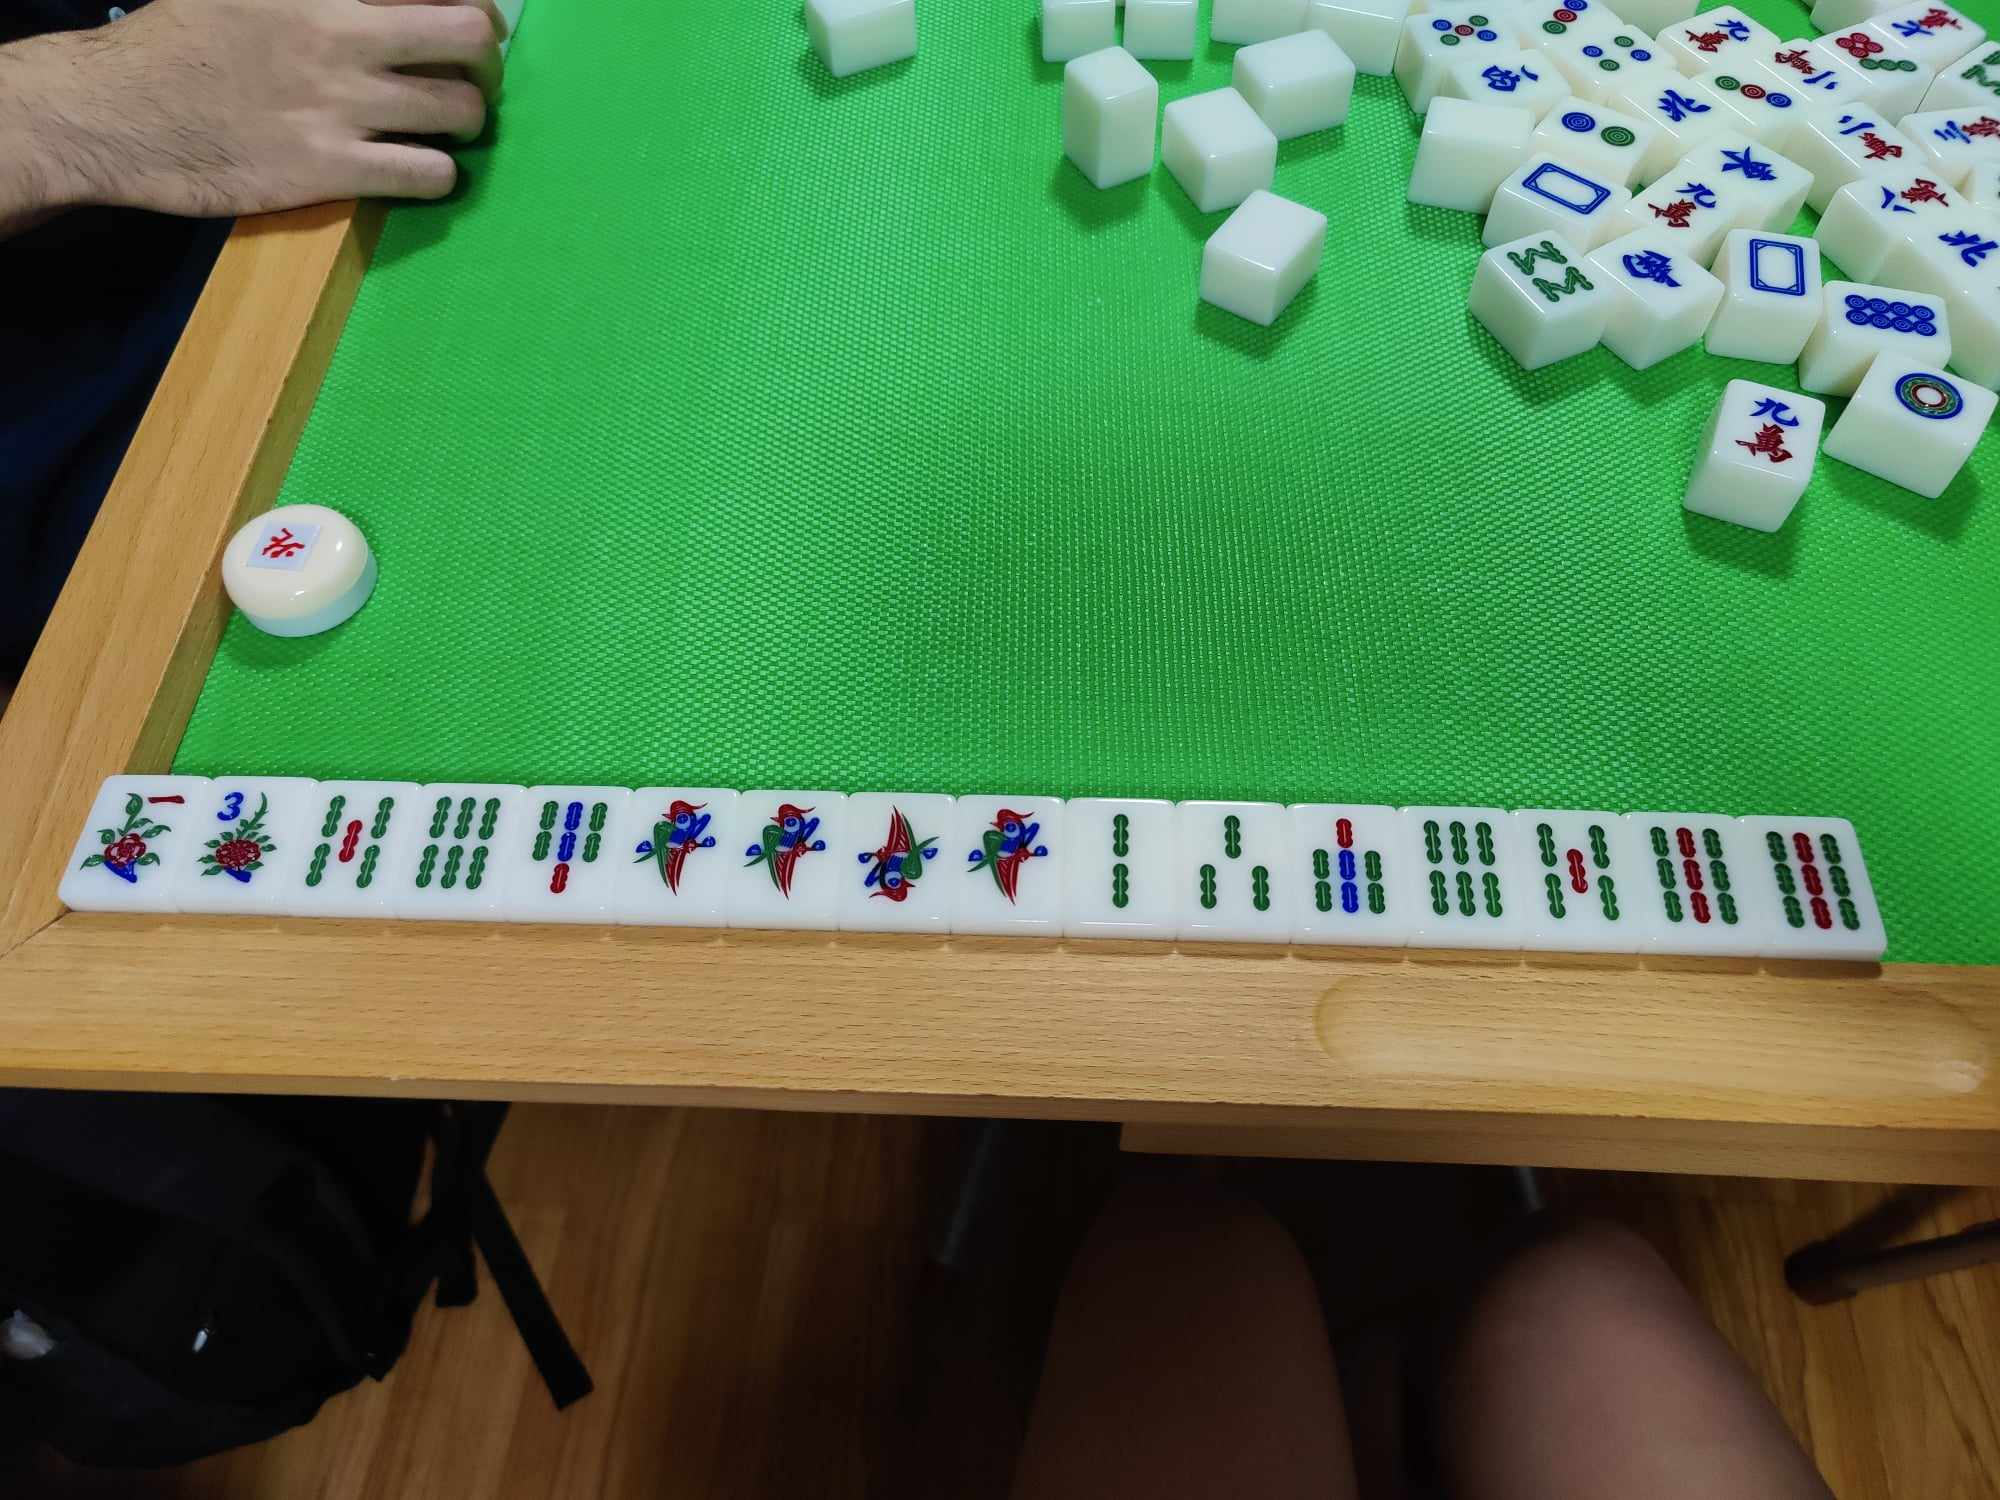bamboo-five: (1528, 818, 1631, 945), (304, 786, 400, 904)
bamboo-nine: (1643, 819, 1751, 949), (1762, 818, 1874, 941)
bamboo-one: (739, 791, 831, 926), (850, 794, 946, 923), (628, 789, 720, 922), (964, 800, 1054, 930)
bamboo-seven: (1298, 810, 1398, 933), (520, 789, 609, 915)
bamboo-six: (1413, 811, 1513, 941), (411, 786, 510, 911)
bamboo-three: (1183, 808, 1283, 934)
bamboo-two: (1069, 802, 1170, 933)
flower-blue_three: (198, 778, 283, 887)
flower-red_one: (76, 777, 189, 897)
